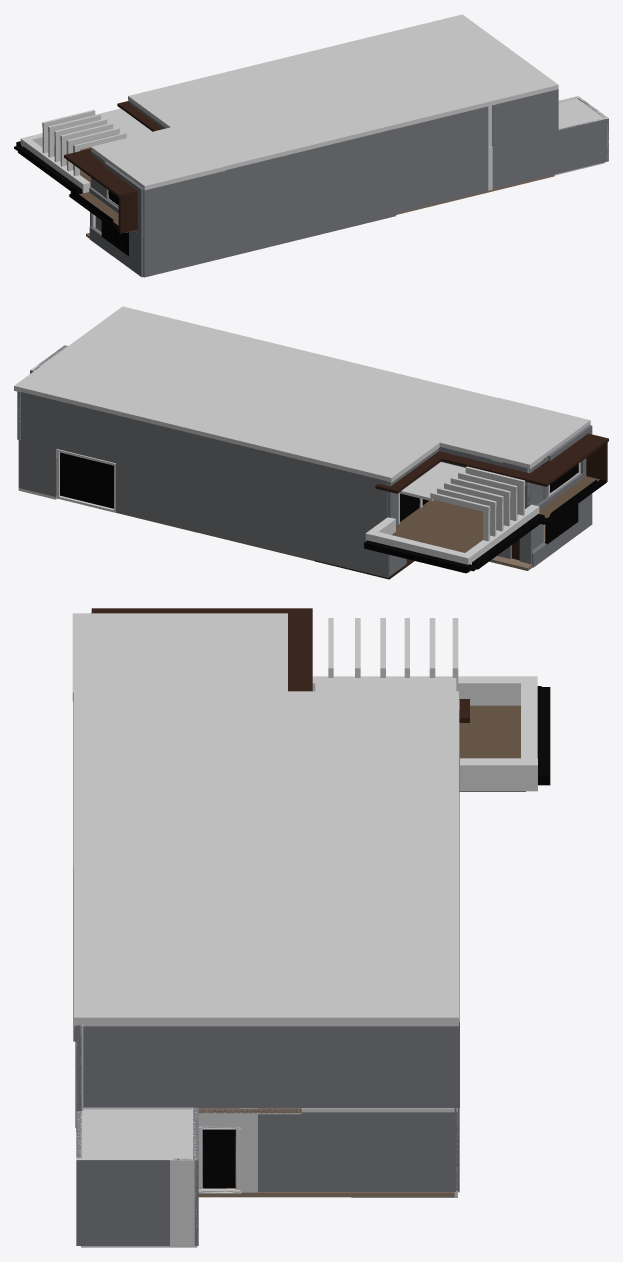
The model's file is modern-house.lod0.glb.
3 renders of one model, top to bottom at view 1: azimuth 30°, elevation 25°; view 2: azimuth 150°, elevation 25°; view 3: azimuth 270°, elevation 25°, orthographic. The views are drawn at different scales.
Parts seen in each view (by area): view 1: Object_2; view 2: Object_2; view 3: Object_2.
Part boxes in pixels (x1,y1,x2,y2): Object_2: (14,14,608,277); Object_2: (14,306,608,579); Object_2: (72,608,550,1247).
Size of the model in its own units: 35.73 by 6.46 by 15.19.
